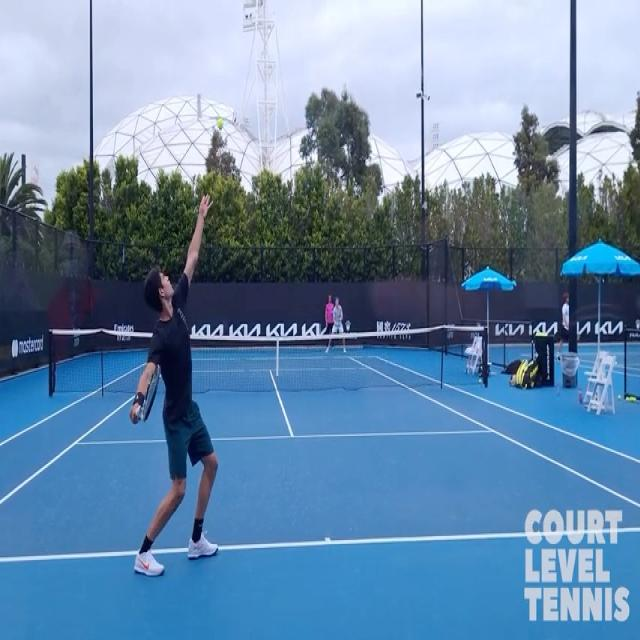serve_toss: (127, 194, 225, 573)
